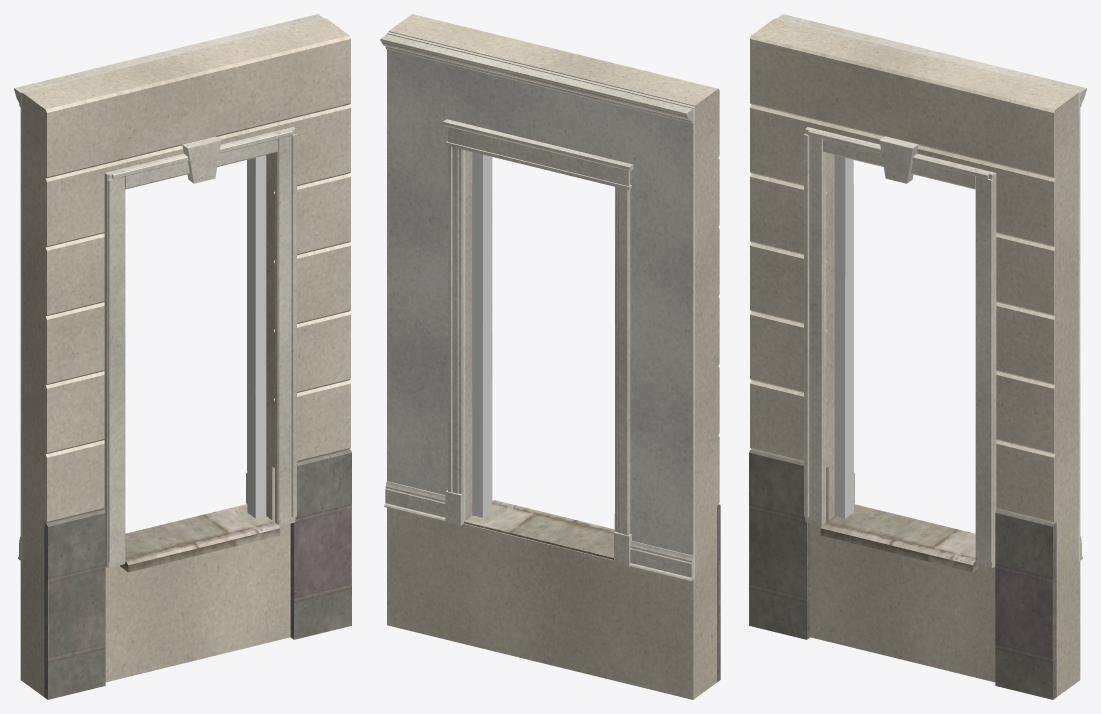
The model's file is g_wall_back_door.glb.
3 views of the same model, side by side, from view 1: azimuth 30°, elevation 25°; view 2: azimuth 150°, elevation 25°; view 3: azimuth 330°, elevation 25° (orthographic).
Parts seen in each view (by area): view 1: g_wall_back_door_rust, g_wall_back_door_plinth, g_wall_back_door_trim, g_wall_back_door_frame, g_wall_back_door_stone2, molduras, g_wall_back_door_plaster; view 2: g_wall_back_door_plaster, g_wall_back_door_rust, molduras, g_wall_back_door_frame, g_wall_back_door_stone2, g_wall_back_door_plinth, g_wall_back_door_trim; view 3: g_wall_back_door_rust, g_wall_back_door_plinth, g_wall_back_door_trim, g_wall_back_door_frame, g_wall_back_door_stone2, molduras, g_wall_back_door_plaster.
Part boxes in pixels (x1=…): g_wall_back_door_rust: x1=20, y1=18, x2=350, y2=696; g_wall_back_door_plinth: x1=44, y1=449, x2=351, y2=699; g_wall_back_door_trim: x1=104, y1=127, x2=296, y2=567; g_wall_back_door_frame: x1=126, y1=155, x2=266, y2=518; g_wall_back_door_stone2: x1=120, y1=504, x2=280, y2=572; molduras: x1=14, y1=14, x2=323, y2=560; g_wall_back_door_plaster: x1=20, y1=18, x2=325, y2=561; g_wall_back_door_plaster: x1=387, y1=32, x2=694, y2=579; g_wall_back_door_rust: x1=387, y1=14, x2=719, y2=699; molduras: x1=380, y1=34, x2=693, y2=581; g_wall_back_door_frame: x1=472, y1=152, x2=615, y2=531; g_wall_back_door_stone2: x1=464, y1=500, x2=614, y2=559; g_wall_back_door_plinth: x1=717, y1=504, x2=720, y2=682; g_wall_back_door_trim: x1=491, y1=157, x2=492, y2=500; g_wall_back_door_rust: x1=750, y1=18, x2=1080, y2=696; g_wall_back_door_plinth: x1=749, y1=449, x2=1056, y2=699; g_wall_back_door_trim: x1=804, y1=127, x2=996, y2=567; g_wall_back_door_frame: x1=834, y1=155, x2=974, y2=518; g_wall_back_door_stone2: x1=820, y1=504, x2=980, y2=572; molduras: x1=777, y1=14, x2=1086, y2=560; g_wall_back_door_plaster: x1=775, y1=18, x2=1080, y2=561.
Size of the model in its own units: 2 by 3.7 by 0.44.
Materials: 6 (5 with a texture image).
